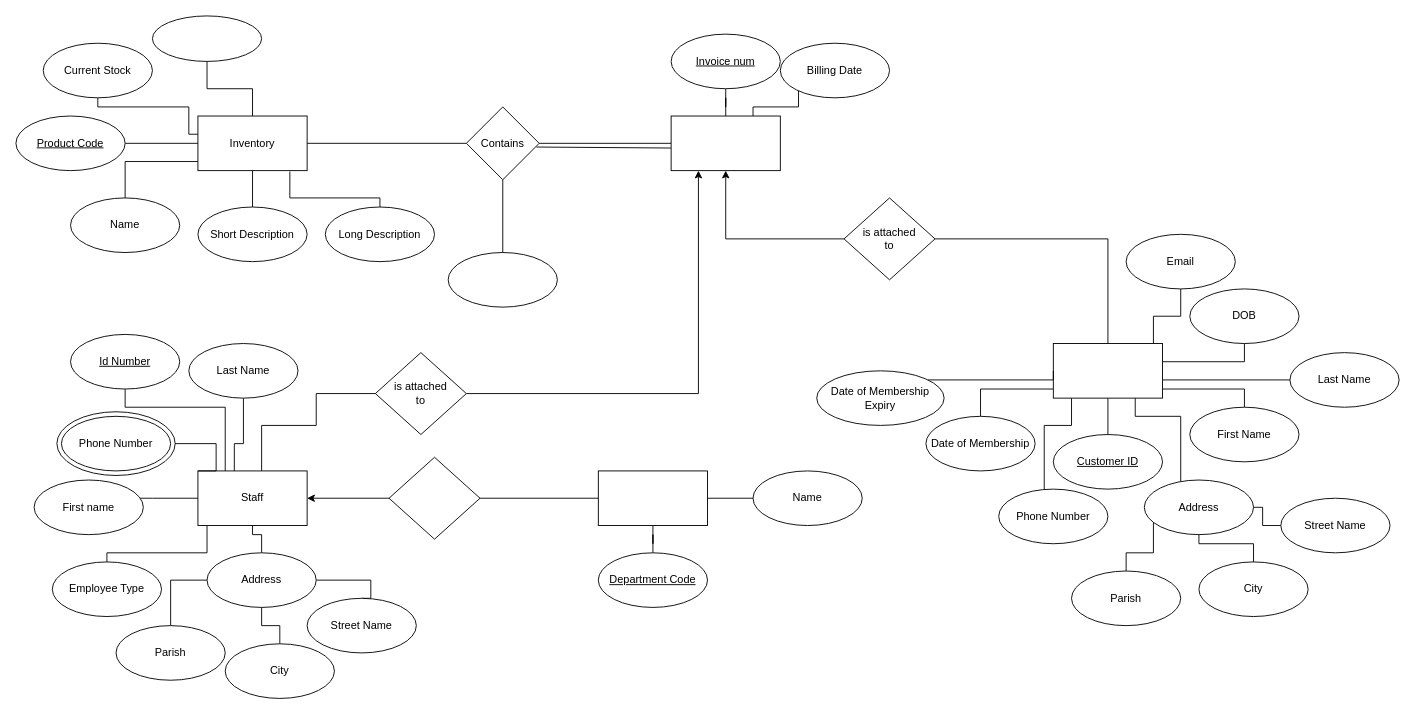
Image size: 1415x714. Some labels were removed from this diagram. The centre of each missing label's shape, as x and y in pixels:
"Customer" goes at (1107,370).
"Department" goes at (652,498).
"Invoice" goes at (725,143).
"Is a member of" goes at (434,497).
"Item Quantity" goes at (502,279).
"Unit Price" goes at (207,38).
